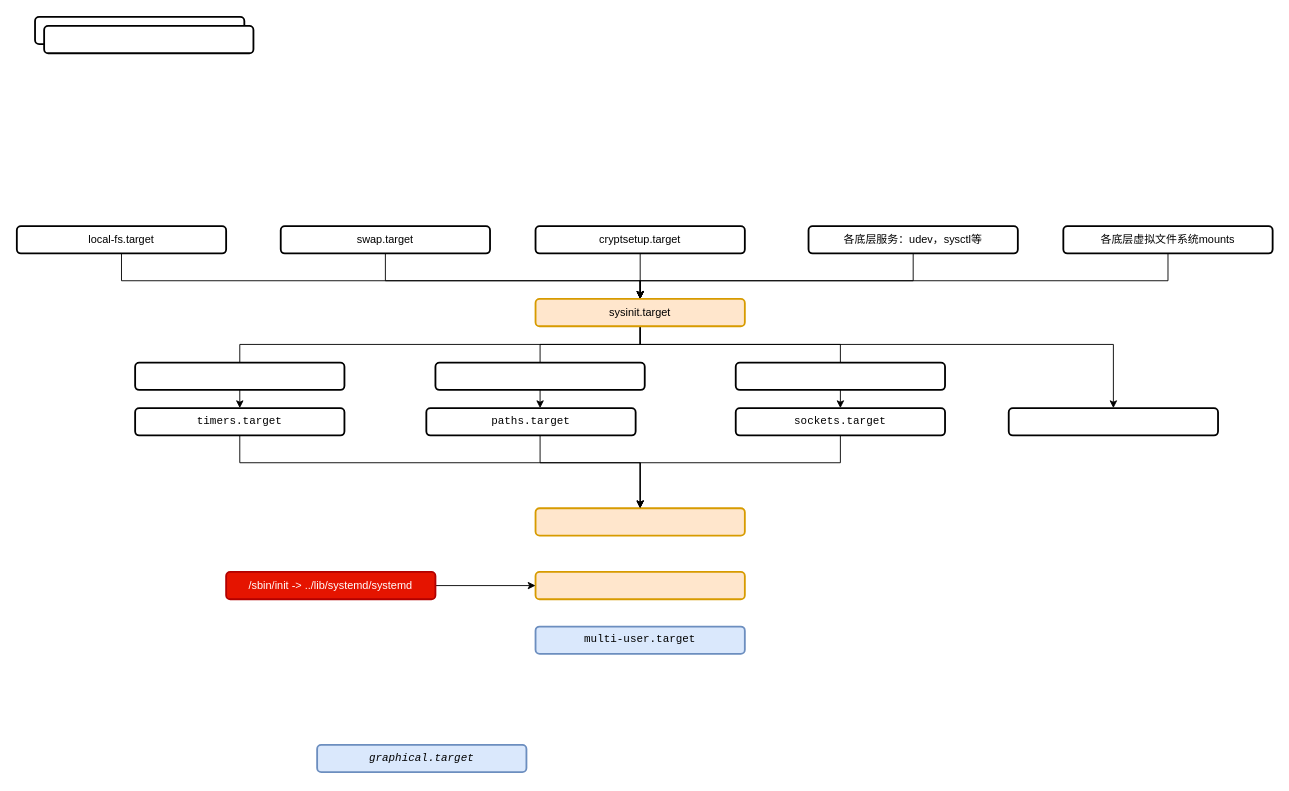
The diagram is 1289 pixels wide and 791 high, and some of its shapes have lost their labels. The shapes that lost their labels are listed below. From the top down, each one's centre as x and y in pixels, then its label:
(x=1112, y=421): rescue.target
(x=639, y=521): basic.target
(x=639, y=585): /lib/systemd/system/default.target
